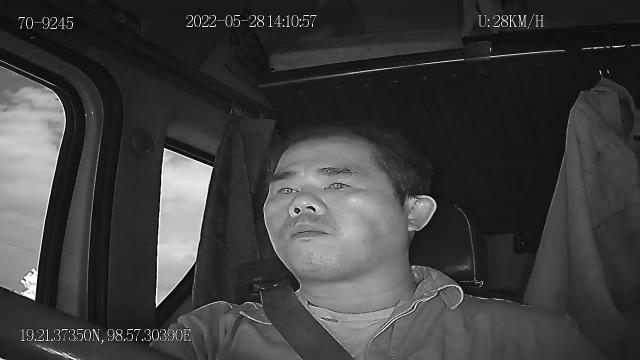SafeDriving: (316, 169, 361, 197), (268, 177, 304, 201)
Seatbelt: (261, 286, 355, 360)
